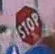stop: (14, 4, 42, 47)
